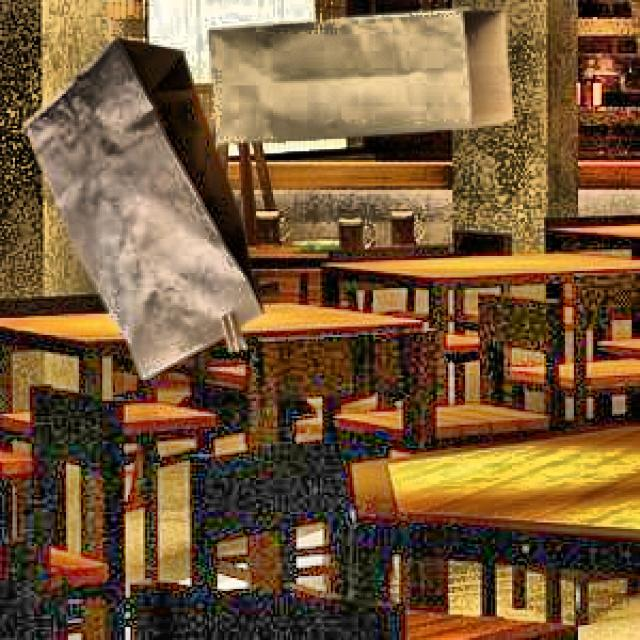Paper-bag: (14, 39, 262, 380), (193, 0, 541, 158)
